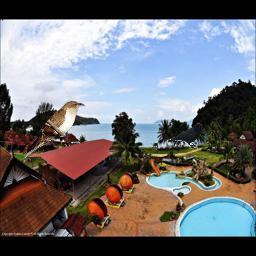Crow: (167, 123, 203, 149)
Cuckoo: (24, 100, 85, 159)
